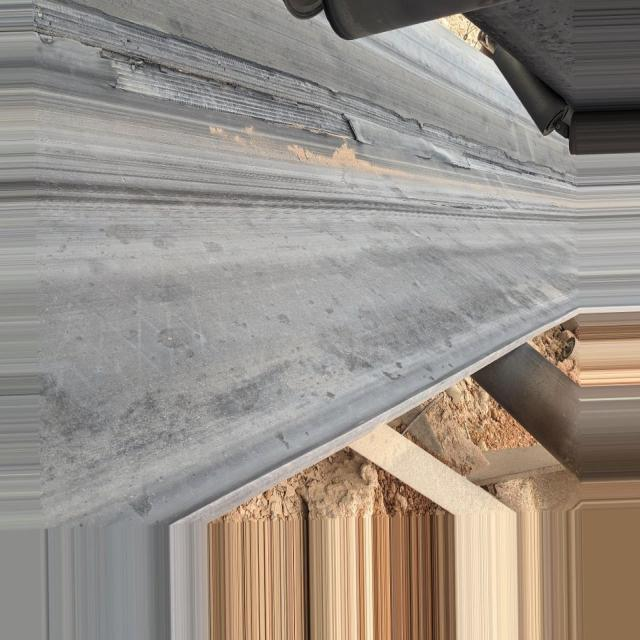Roller: (477, 345, 585, 458), (493, 44, 569, 135), (332, 2, 450, 41), (572, 113, 624, 153), (284, 4, 328, 17)
Tear: (39, 0, 588, 193)
